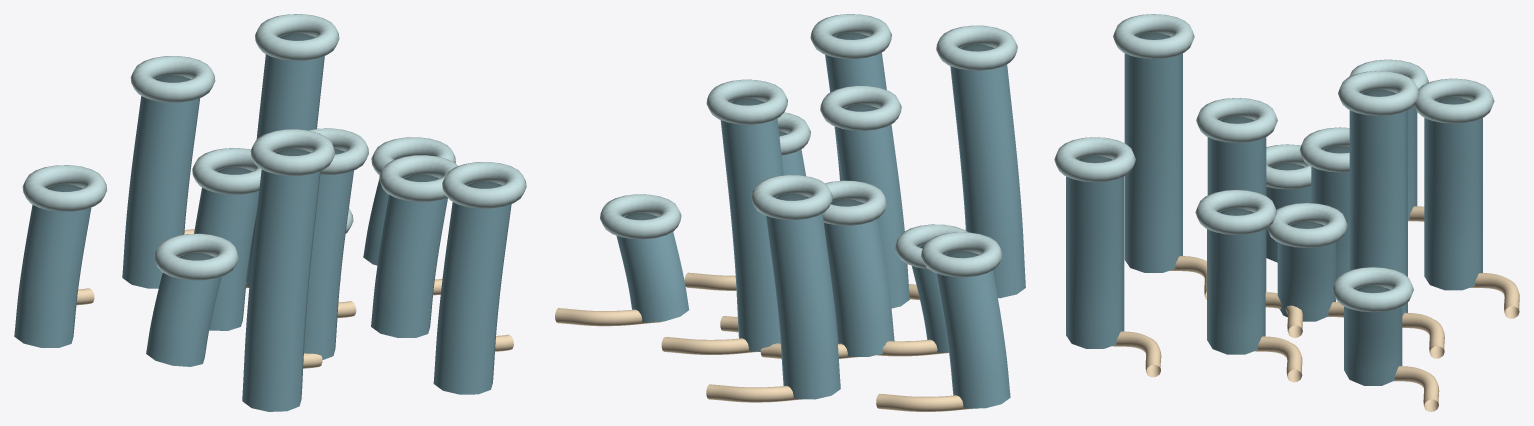
The model's file is bio_thermal_colony_06_near.glb.
3 views of the same model, side by side, from view 1: azimuth 30°, elevation 25°; view 2: azimuth 150°, elevation 25°; view 3: azimuth 270°, elevation 25° (orthographic). The views are drawn at different scales.
Parts seen in each view (by area): view 1: Chimney biofilm.007, Chimney biofilm.010, Chimney biofilm.006, Chimney biofilm.009, Chimney biofilm.005, Chimney biofilm.002, Chimney biofilm.004, Chimney biofilm.001, Chimney biofilm.003, Open vent rim.003, Open vent rim.004, Open vent rim.006 (+8 smaller); view 2: Chimney biofilm.007, Chimney biofilm.006, Chimney biofilm.003, Chimney biofilm.009, Chimney biofilm.001, Chimney biofilm.002, Chimney biofilm.008, Open vent rim.008, Open vent rim.003, Open vent rim.002, Open vent rim.007, Open vent rim.006 (+14 smaller); view 3: Chimney biofilm.007, Chimney biofilm.006, Chimney biofilm.010, Chimney biofilm.003, Chimney biofilm.005, Chimney biofilm.008, Chimney biofilm, Chimney biofilm.002, Open vent rim.002, Open vent rim.003, Open vent rim.007, Open vent rim.005 (+17 smaller).
Part boxes in pixels (x1=…): Chimney biofilm.007: x1=242, y1=150, x2=320, y2=411; Chimney biofilm.010: x1=433, y1=184, x2=511, y2=394; Chimney biofilm.006: x1=122, y1=78, x2=200, y2=288; Chimney biofilm.009: x1=14, y1=187, x2=91, y2=347; Chimney biofilm.005: x1=371, y1=177, x2=447, y2=337; Chimney biofilm.002: x1=304, y1=150, x2=353, y2=359; Chimney biofilm.004: x1=146, y1=255, x2=221, y2=366; Chimney biofilm.001: x1=194, y1=170, x2=259, y2=330; Chimney biofilm.003: x1=246, y1=35, x2=324, y2=287; Open vent rim.003: x1=255, y1=14, x2=339, y2=60; Open vent rim.004: x1=154, y1=233, x2=238, y2=280; Open vent rim.006: x1=130, y1=56, x2=215, y2=102; Chimney biofilm.007: x1=950, y1=46, x2=1025, y2=298; Chimney biofilm.006: x1=766, y1=196, x2=840, y2=399; Chimney biofilm.003: x1=720, y1=101, x2=783, y2=351; Chimney biofilm.009: x1=936, y1=252, x2=1010, y2=408; Chimney biofilm.001: x1=824, y1=201, x2=894, y2=356; Chimney biofilm.002: x1=834, y1=106, x2=909, y2=308; Chimney biofilm.008: x1=616, y1=215, x2=689, y2=322; Open vent rim.008: x1=600, y1=194, x2=681, y2=239; Open vent rim.003: x1=706, y1=79, x2=787, y2=124; Open vent rim.002: x1=820, y1=85, x2=901, y2=130; Open vent rim.007: x1=936, y1=25, x2=1017, y2=70; Open vent rim.006: x1=751, y1=175, x2=832, y2=219; Chimney biofilm.007: x1=1124, y1=35, x2=1182, y2=272; Chimney biofilm.006: x1=1424, y1=100, x2=1482, y2=290; Chimney biofilm.010: x1=1066, y1=158, x2=1124, y2=348; Chimney biofilm.003: x1=1349, y1=92, x2=1407, y2=316; Chimney biofilm.005: x1=1207, y1=211, x2=1265, y2=354; Chimney biofilm.008: x1=1344, y1=288, x2=1402, y2=385; Chimney biofilm: x1=1277, y1=224, x2=1335, y2=321; Chimney biofilm.002: x1=1207, y1=119, x2=1266, y2=291; Open vent rim.002: x1=1196, y1=98, x2=1277, y2=142; Open vent rim.003: x1=1338, y1=71, x2=1419, y2=115; Open vent rim.007: x1=1113, y1=14, x2=1194, y2=58; Open vent rim.005: x1=1195, y1=189, x2=1276, y2=234.
Bounding box in the file's own units: 1.68 × 0.9495 × 1.59.
